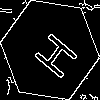H: (25, 25, 80, 82)
